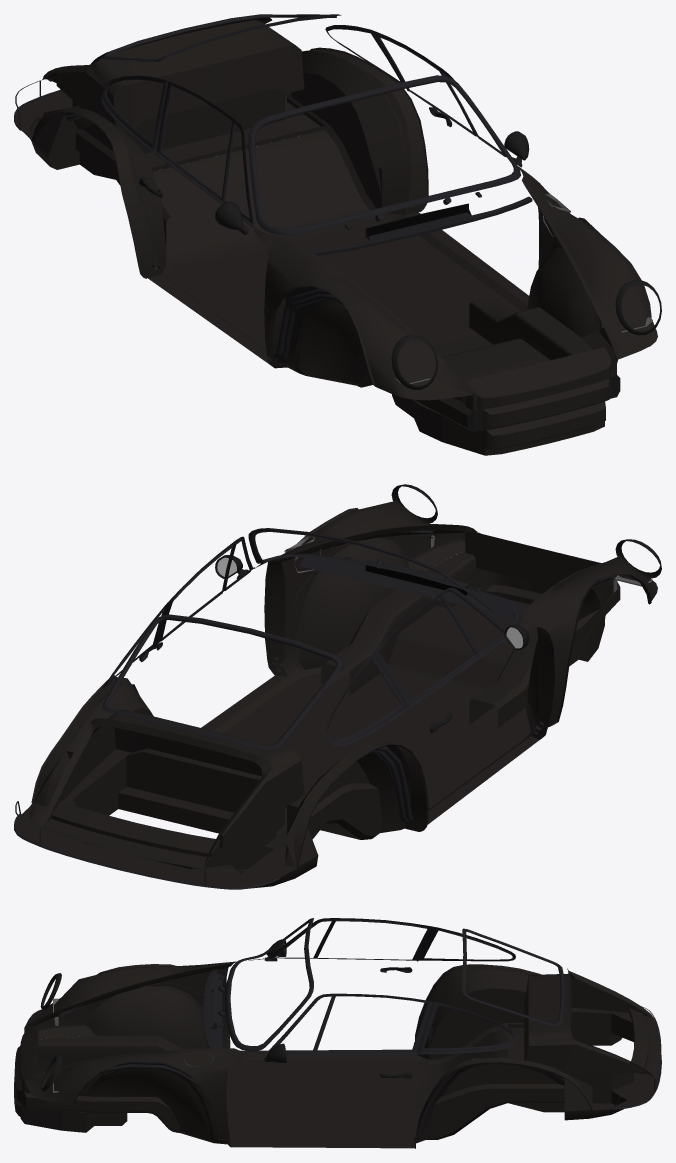
File: RWB_Body_Trim.fbx
The picture shows the model from 3 angles, top to bottom: view 1: azimuth 30°, elevation 25°; view 2: azimuth 150°, elevation 25°; view 3: azimuth 270°, elevation 25°; orthographic projection. The views are drawn at different scales.
Visible parts, largest first — view 1: RWB_Body_Trim; view 2: RWB_Body_Trim; view 3: RWB_Body_Trim.
Part boxes in pixels (left/top/right/bottom): RWB_Body_Trim: left=14, top=14, right=661, bottom=455; RWB_Body_Trim: left=14, top=484, right=661, bottom=889; RWB_Body_Trim: left=14, top=918, right=661, bottom=1148.
Size of the model in its own units: 165 by 106 by 399.
